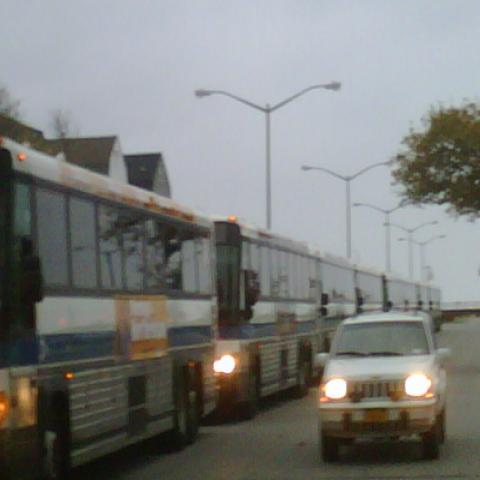bus: (1, 133, 218, 473), (215, 223, 326, 420), (320, 254, 357, 354), (352, 265, 390, 312), (418, 281, 443, 331), (385, 275, 419, 311)
car: (314, 307, 450, 463)
truck: (312, 303, 454, 467)
